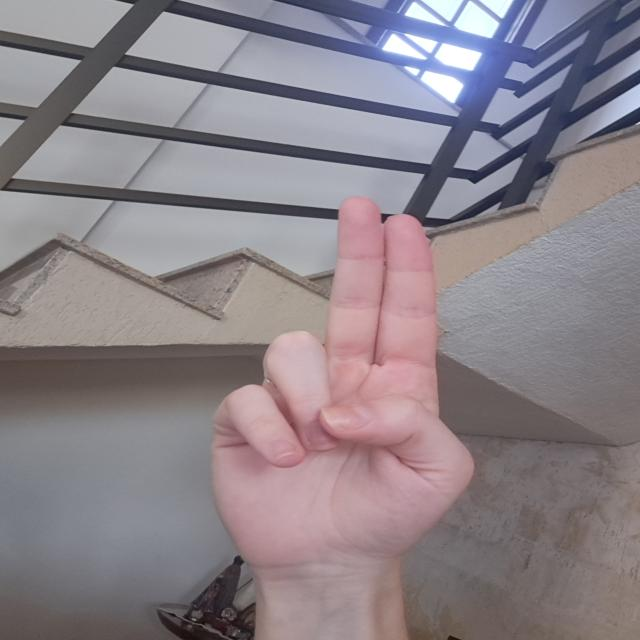U: (204, 196, 484, 565)
